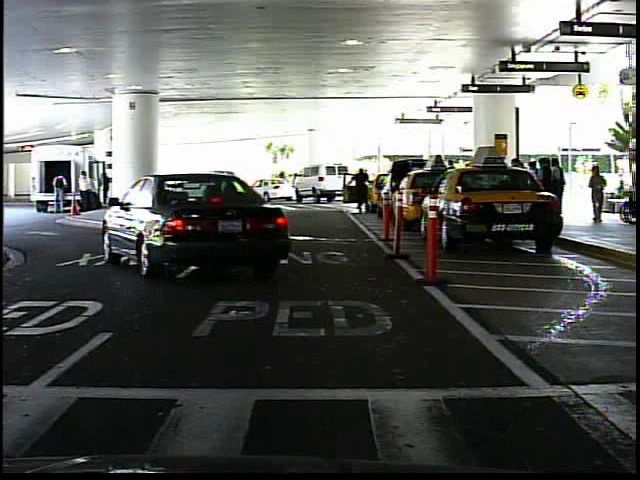person: (351, 166, 375, 218), (590, 163, 609, 226)
